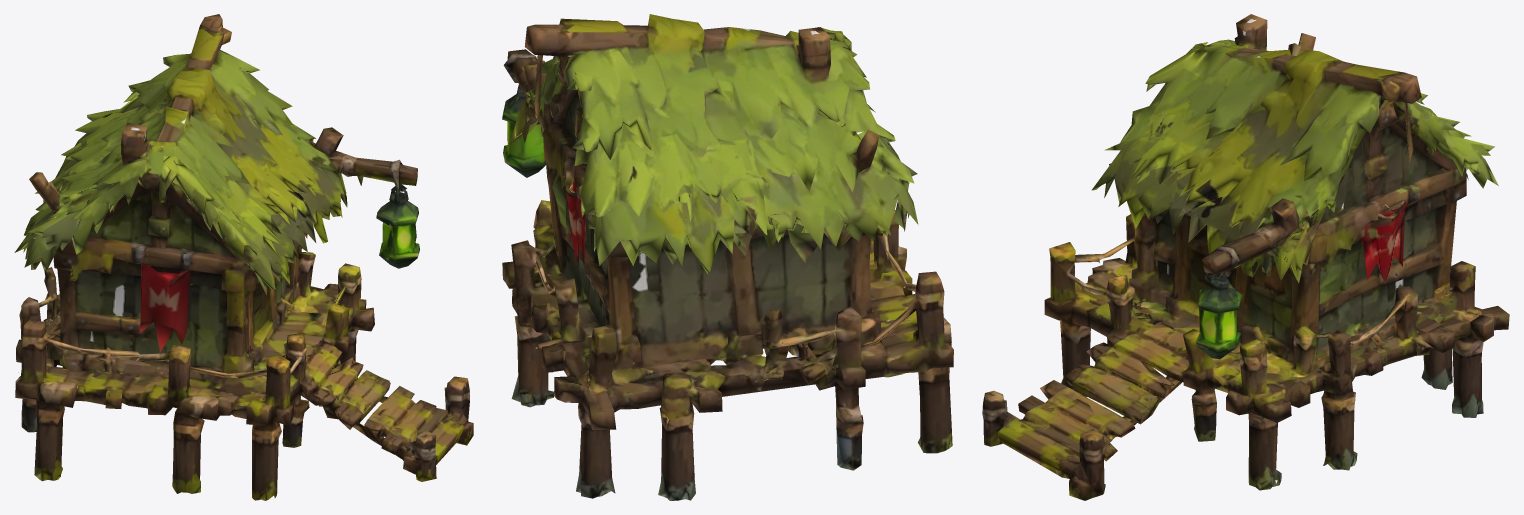
File: bld_stilt_hut.glb
3 views of the same model, side by side, from view 1: azimuth 30°, elevation 25°; view 2: azimuth 150°, elevation 25°; view 3: azimuth 270°, elevation 25° (orthographic). The views are drawn at different scales.
Parts seen in each view (by area): view 1: BakeLow; view 2: BakeLow; view 3: BakeLow.
Part boxes in pixels (x1,y1,x2,y2): BakeLow: [14, 14, 473, 500]; BakeLow: [502, 14, 953, 500]; BakeLow: [982, 14, 1509, 500].
Size of the model in its own units: 0.845 by 0.7163 by 0.9201.
1 material, 1 textured.
